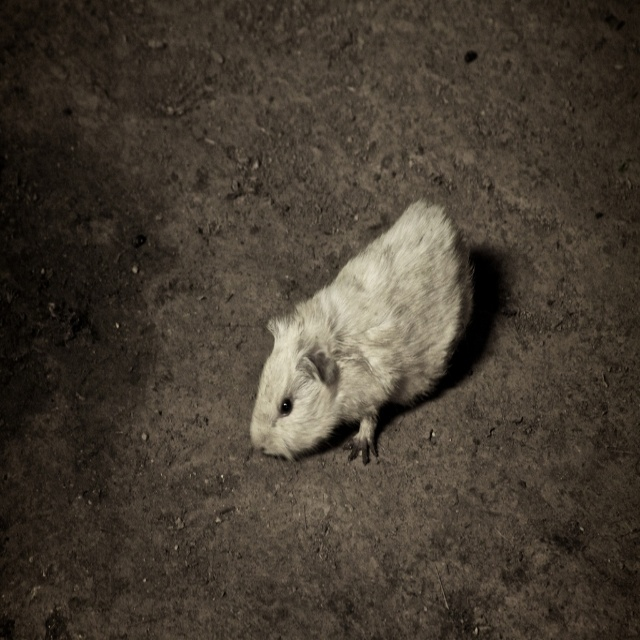Hamster: (244, 196, 478, 483)
